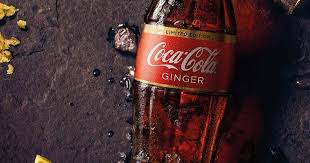coke-glass-bottle: (130, 1, 235, 159)
